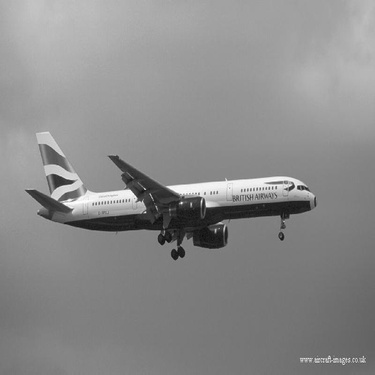airplane: (1, 137, 322, 262)
